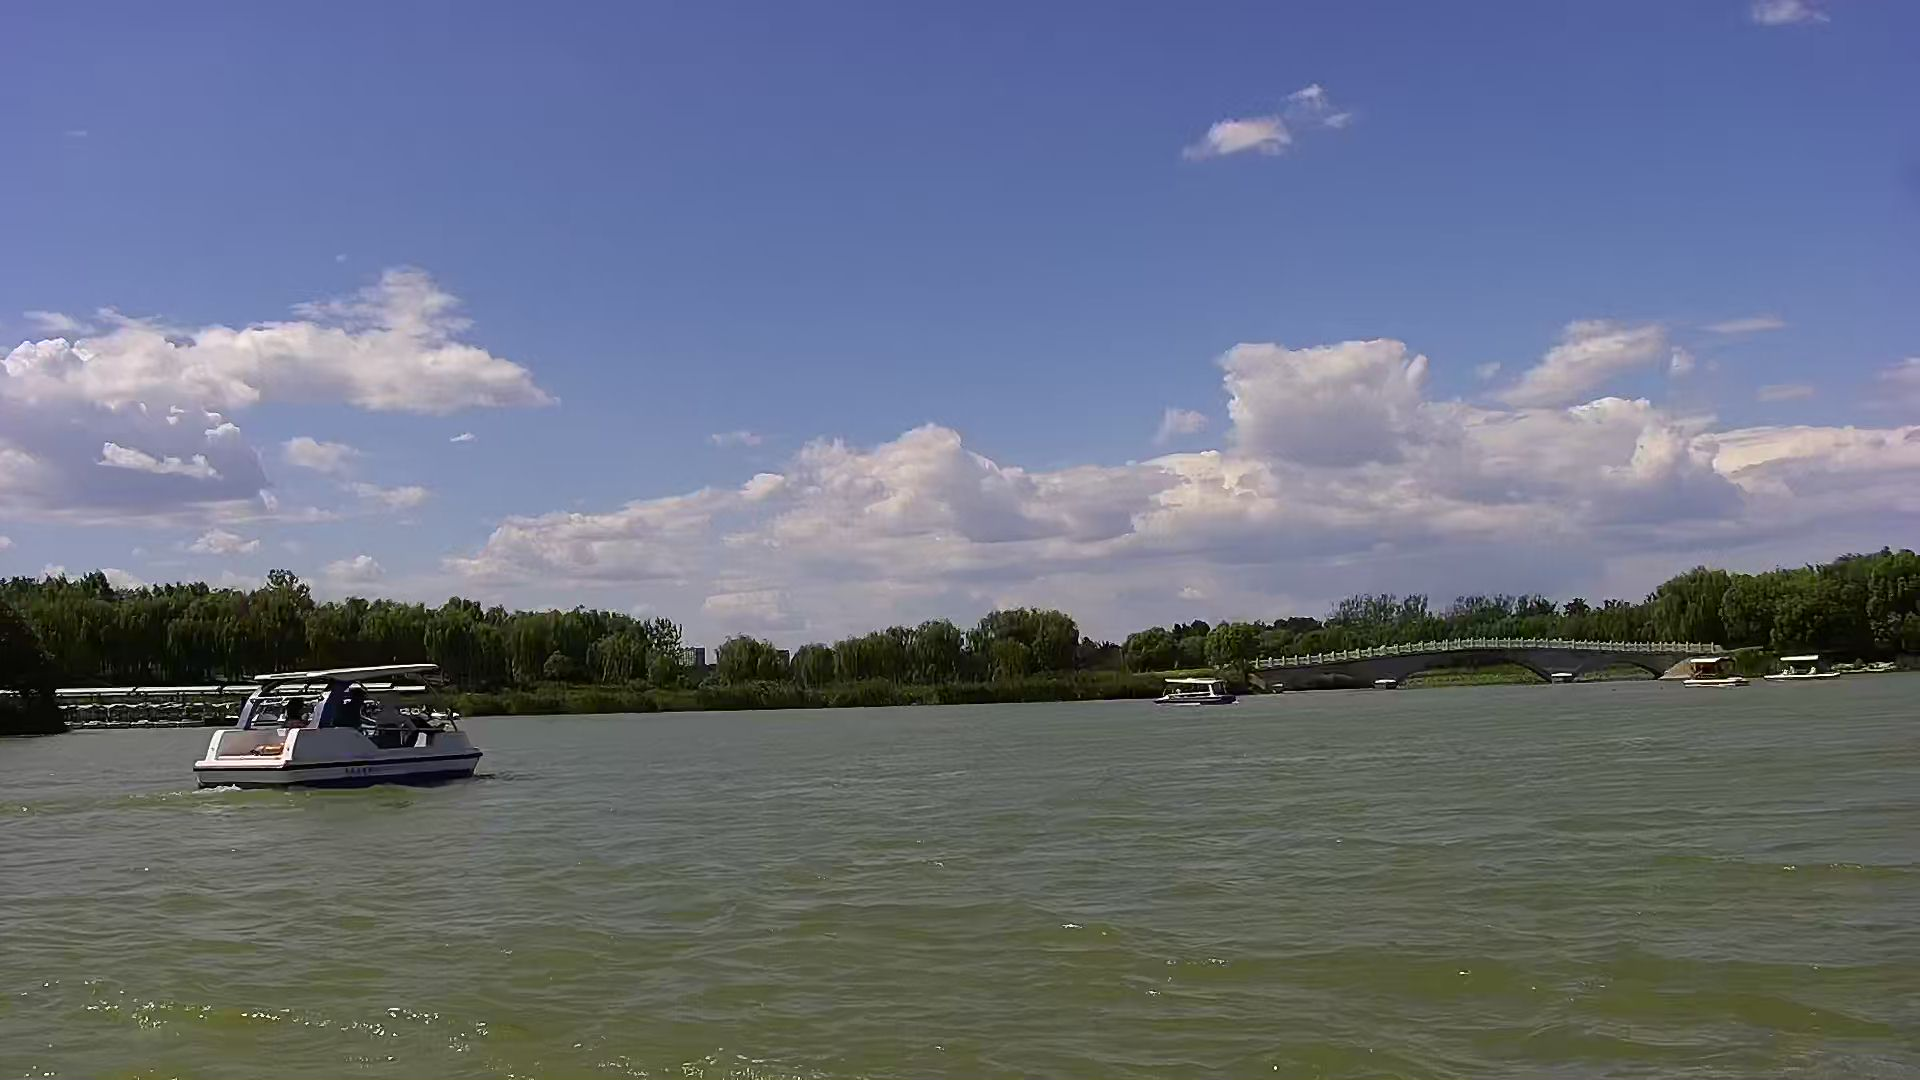boat: (177, 650, 487, 795), (1764, 644, 1867, 704), (1139, 663, 1236, 709), (1677, 647, 1747, 698)
bridge: (1258, 640, 1667, 702)
